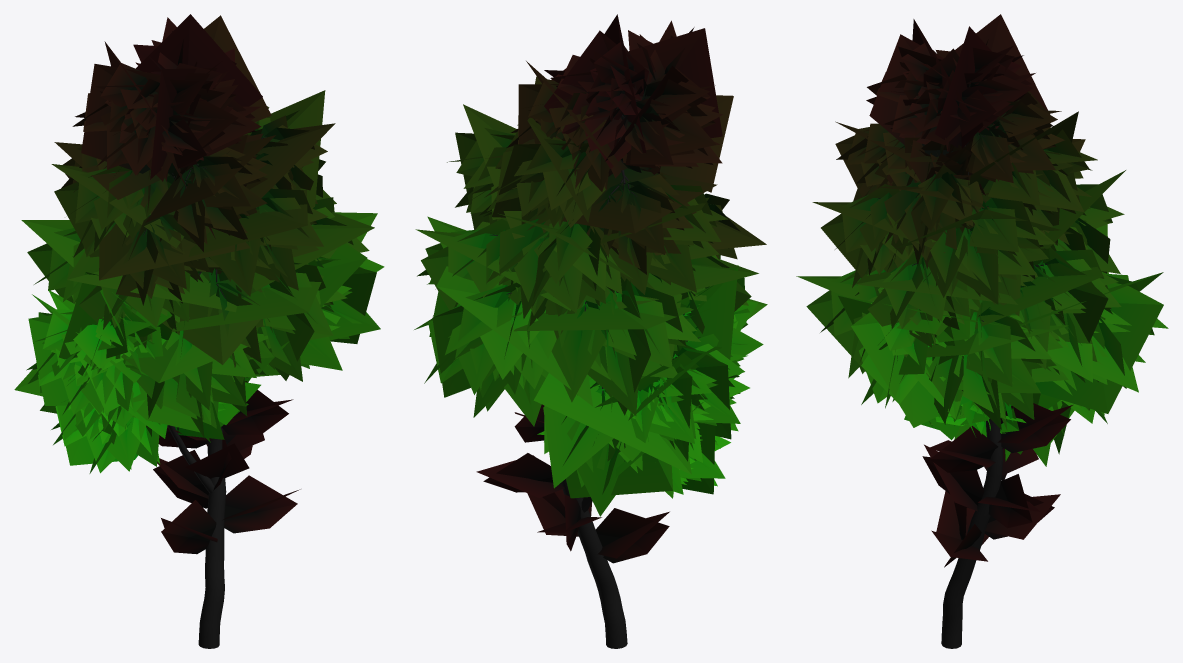
Rendered from birch_tree_8.FBX.
3 renders of one model, left to right at view 1: azimuth 30°, elevation 25°; view 2: azimuth 150°, elevation 25°; view 3: azimuth 270°, elevation 25°, orthographic. The views are drawn at different scales.
Visible parts, largest first — view 1: birch_leaves_lod_0, birch_leaves_shadow, birch_trunk_lod_0; view 2: birch_leaves_lod_0, birch_leaves_shadow, birch_trunk_lod_0; view 3: birch_leaves_lod_0, birch_leaves_shadow, birch_trunk_lod_0.
Boxes of the visible parts, bbox=[...] form: birch_leaves_lod_0: bbox=[26, 17, 384, 554]; birch_leaves_shadow: bbox=[14, 14, 377, 465]; birch_trunk_lod_0: bbox=[167, 425, 226, 648]; birch_leaves_lod_0: bbox=[414, 20, 763, 563]; birch_leaves_shadow: bbox=[415, 14, 767, 498]; birch_trunk_lod_0: bbox=[561, 160, 627, 648]; birch_leaves_lod_0: bbox=[820, 39, 1168, 567]; birch_leaves_shadow: bbox=[796, 14, 1163, 466]; birch_trunk_lod_0: bbox=[941, 172, 1002, 648].
Size of what is drawn, in the model's own units: 7.82 by 14.25 by 7.84.
